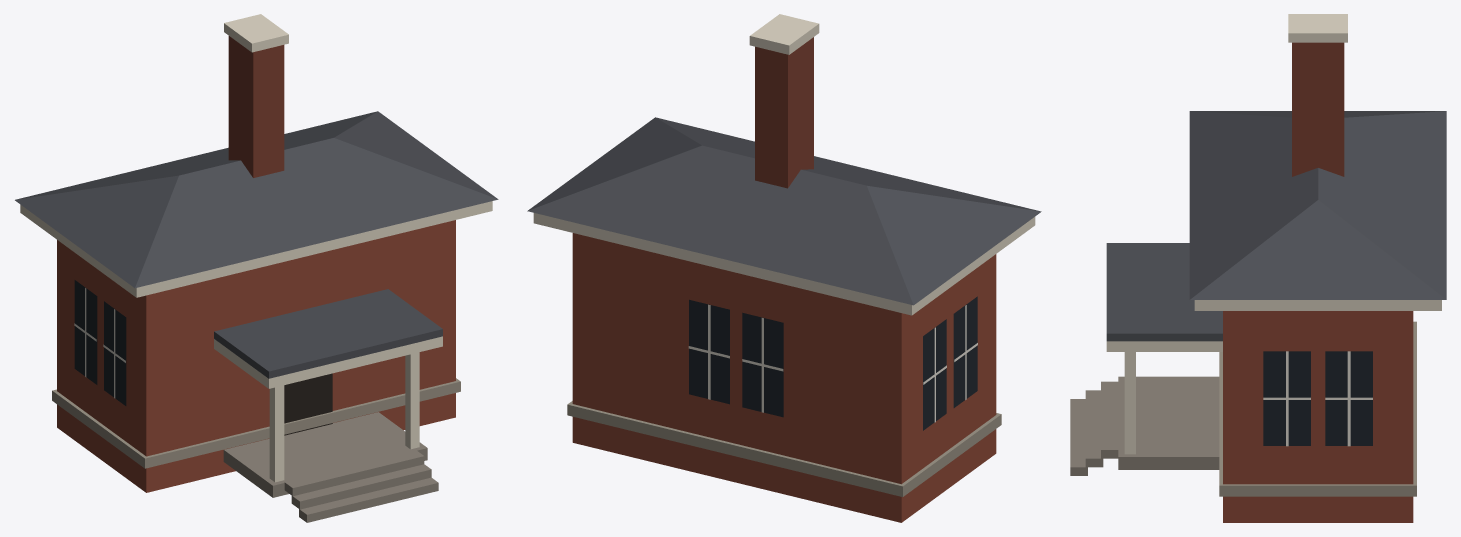
The model's file is abc-manual-training-1913.glb.
3 views of the same model, side by side, from view 1: azimuth 30°, elevation 25°; view 2: azimuth 150°, elevation 25°; view 3: azimuth 270°, elevation 25° (orthographic). The views are drawn at different scales.
Visible parts, largest first — view 1: abc_slate, abc_brick, abc_base, abc_trim, abc_brick2, abc_stone, abc_glass, abc_dark; view 2: abc_brick, abc_slate, abc_glass, abc_brick2, abc_trim, abc_stone, abc_sash; view 3: abc_slate, abc_brick, abc_base, abc_glass, abc_trim, abc_brick2, abc_stone, abc_sash.
Part boxes in pixels (left/top/right/bottom): abc_slate: left=15, top=111, right=498, bottom=378; abc_brick: left=57, top=220, right=455, bottom=492; abc_base: left=223, top=412, right=438, bottom=522; abc_trim: left=20, top=14, right=492, bottom=482; abc_brick2: left=228, top=36, right=284, bottom=177; abc_stone: left=52, top=378, right=460, bottom=468; abc_glass: left=74, top=280, right=126, bottom=405; abc_dark: left=284, top=373, right=332, bottom=435; abc_brick: left=572, top=233, right=996, bottom=522; abc_slate: left=527, top=117, right=1041, bottom=305; abc_glass: left=689, top=296, right=977, bottom=430; abc_brick2: left=755, top=37, right=813, bottom=188; abc_trim: left=533, top=14, right=1035, bottom=315; abc_stone: left=567, top=401, right=1001, bottom=496; abc_sash: left=688, top=304, right=977, bottom=422; abc_slate: left=1106, top=111, right=1446, bottom=341; abc_brick: left=1223, top=311, right=1413, bottom=522; abc_base: left=1070, top=376, right=1219, bottom=475; abc_glass: left=1263, top=351, right=1372, bottom=445; abc_trim: left=1106, top=14, right=1441, bottom=454; abc_brick2: left=1292, top=42, right=1344, bottom=176; abc_stone: left=1219, top=321, right=1416, bottom=496; abc_sash: left=1263, top=351, right=1372, bottom=446.
Bounding box in the file's own units: 9.4 × 9.72 × 7.91.
